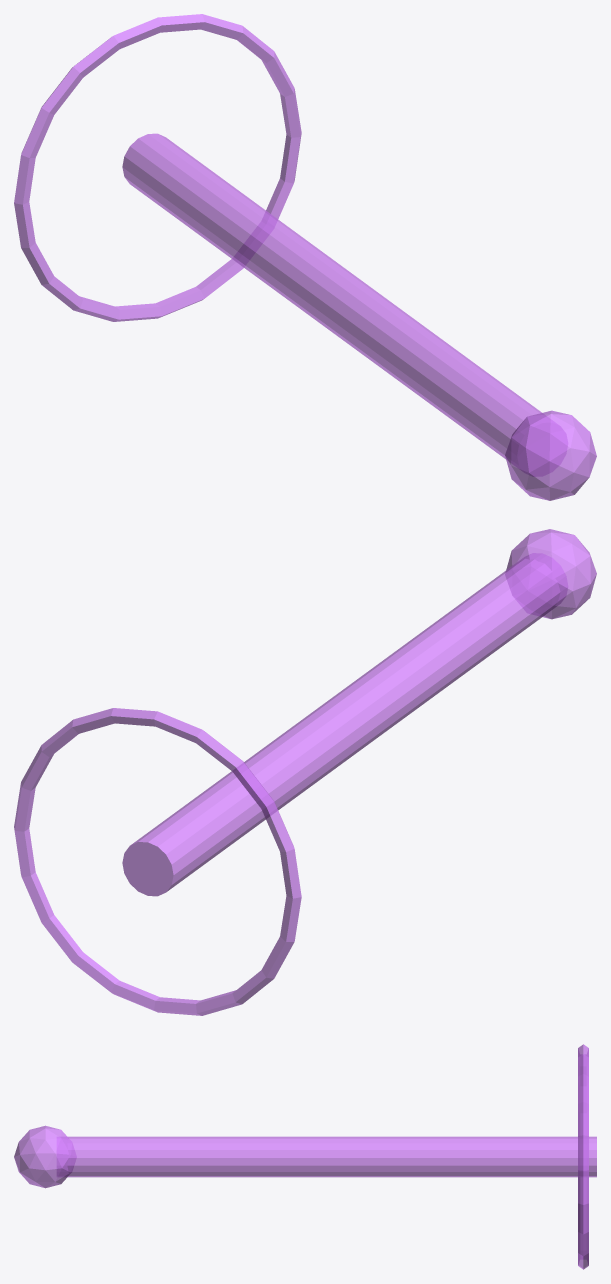
Rendered from loot_beam_epic.glb.
3 renders of one model, top to bottom at view 1: azimuth 30°, elevation 25°; view 2: azimuth 150°, elevation 25°; view 3: azimuth 270°, elevation 25°, orthographic. The views are drawn at different scales.
Visible parts, largest first — view 1: beam, ground_ring, top_spark; view 2: beam, ground_ring, top_spark; view 3: beam, top_spark, ground_ring.
Boxes of the visible parts, <box> form: beam: <box>122,133,567,476</box>; ground_ring: <box>14,14,301,321</box>; top_spark: <box>505,410,596,500</box>; beam: <box>122,553,567,896</box>; ground_ring: <box>14,708,301,1015</box>; top_spark: <box>505,529,596,619</box>; beam: <box>57,1136,596,1177</box>; top_spark: <box>14,1125,76,1188</box>; ground_ring: <box>578,1044,588,1269</box>.
Size of the model in its own units: 1.01 by 1.01 by 2.59.
